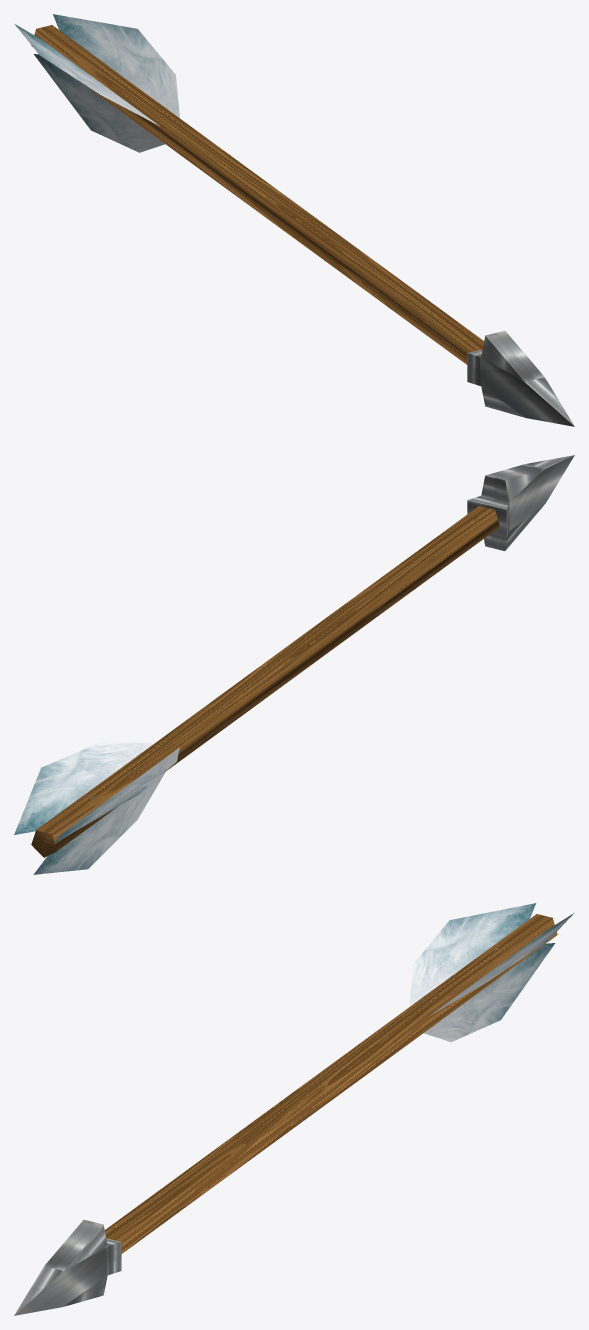
File: low-poly-arrow-rotated-b.obj
3 renders of one model, top to bottom at view 1: azimuth 30°, elevation 25°; view 2: azimuth 150°, elevation 25°; view 3: azimuth 330°, elevation 25°, orthographic.
Parts seen in each view (by area): view 1: Body, Feather, Head; view 2: Body, Feather, Head; view 3: Body, Feather, Head.
Boxes of the visible parts, <box> form: Body: <box>31,25,484,364</box>; Feather: <box>14,14,179,152</box>; Head: <box>467,331,574,426</box>; Body: <box>31,506,499,857</box>; Feather: <box>14,741,179,874</box>; Head: <box>467,455,574,550</box>; Body: <box>104,914,557,1253</box>; Feather: <box>409,903,573,1042</box>; Head: <box>14,1220,121,1315</box>.
Size of the model in its own units: 15.93 by 14.7 by 152.
Materials: 3 (3 with a texture image).
